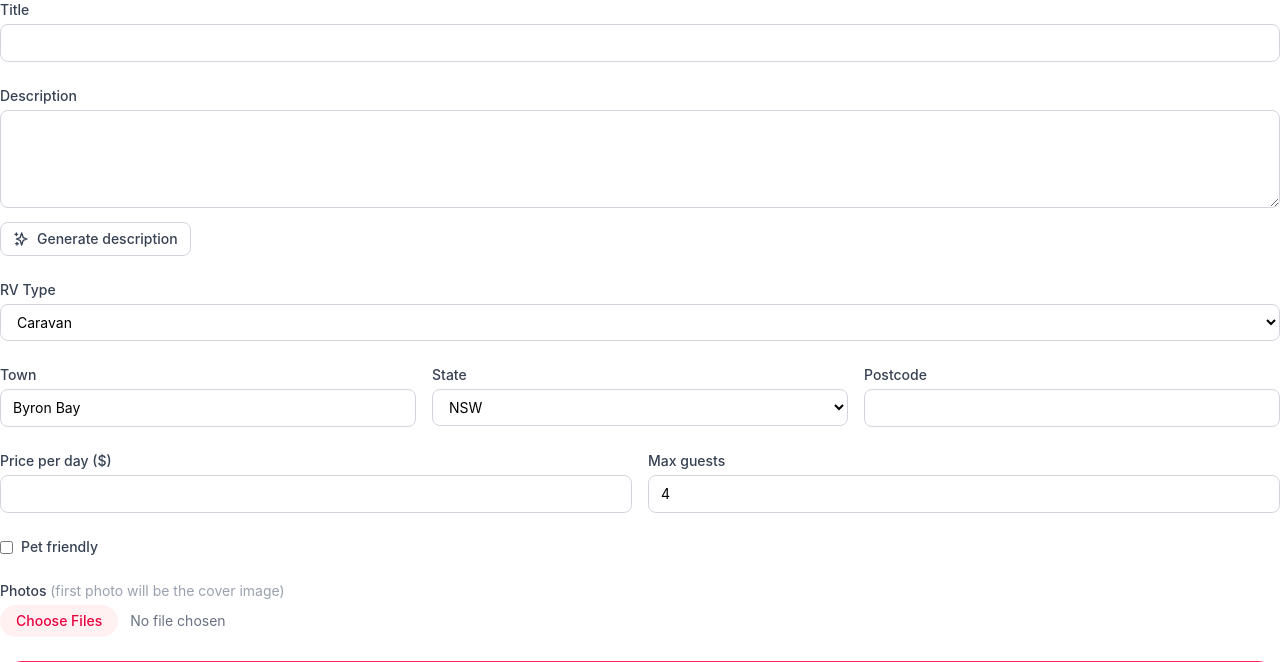
it: ListingForm › Generate description button › shows a generic error near the button when the request itself throws (e.g. network failure)
The image size is (1280, 662).
Click the button "Generate description": (95, 239) [0,222,191,256]
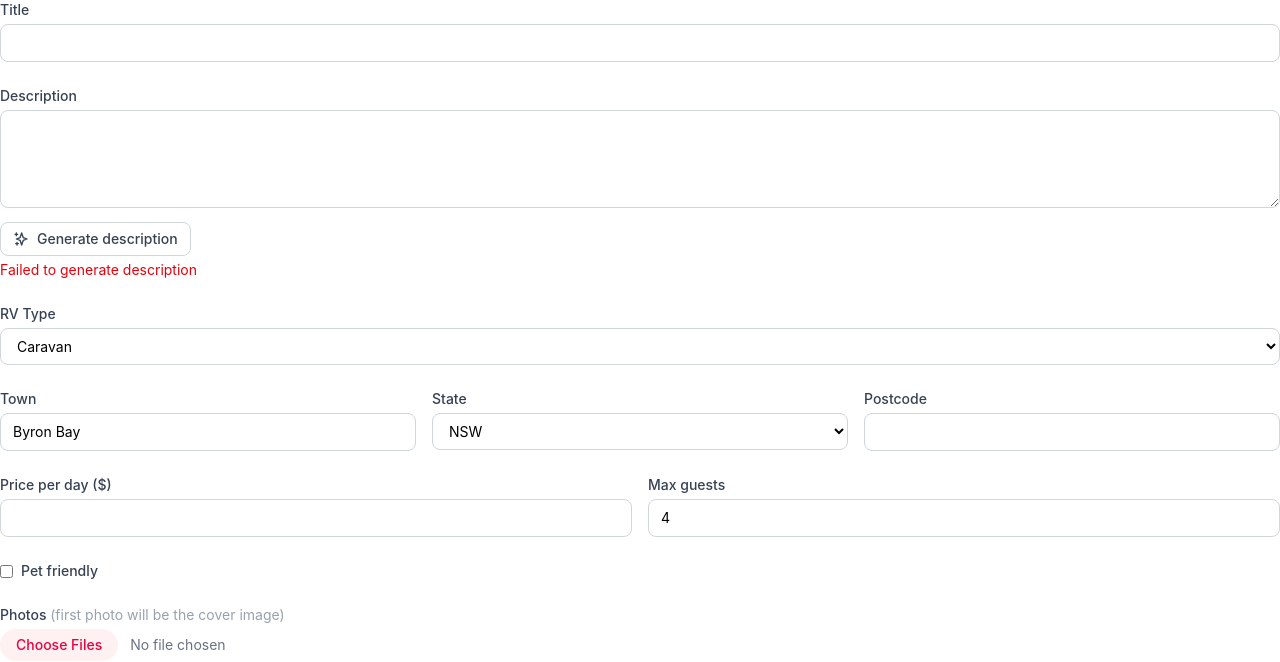
Expected: the text "Failed to generate description" is shown, [0,261,197,278]
